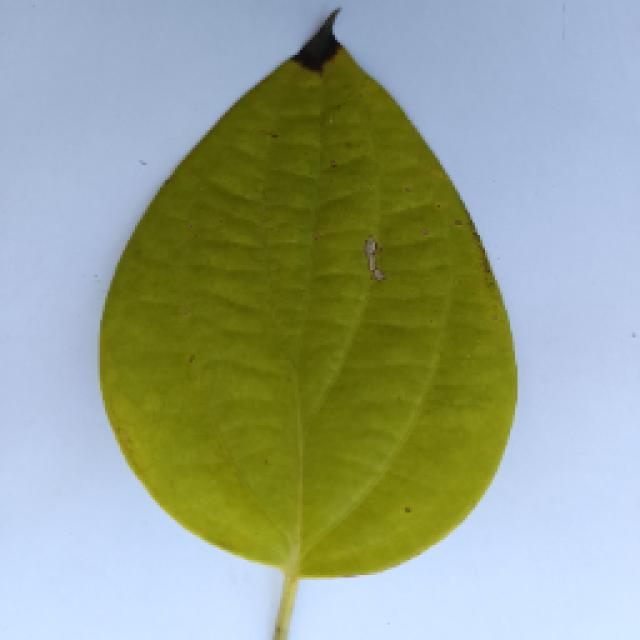slow-decline: (58, 22, 592, 638)
